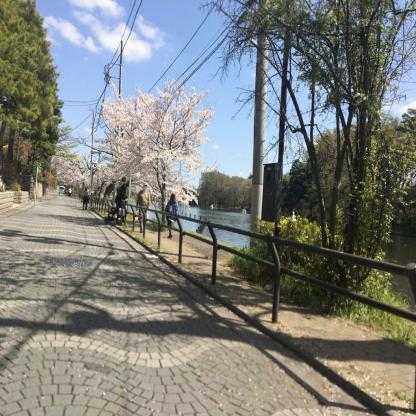Someiyoshino: (95, 70, 223, 214), (48, 152, 99, 188)
